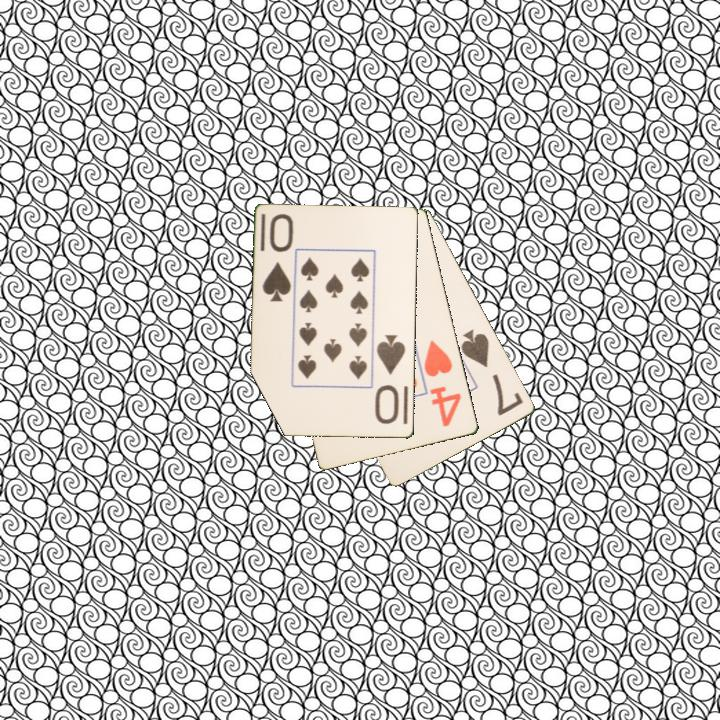10s: (372, 331, 408, 427), (259, 211, 295, 305)
4h: (421, 337, 465, 430)
7s: (457, 325, 526, 419)
